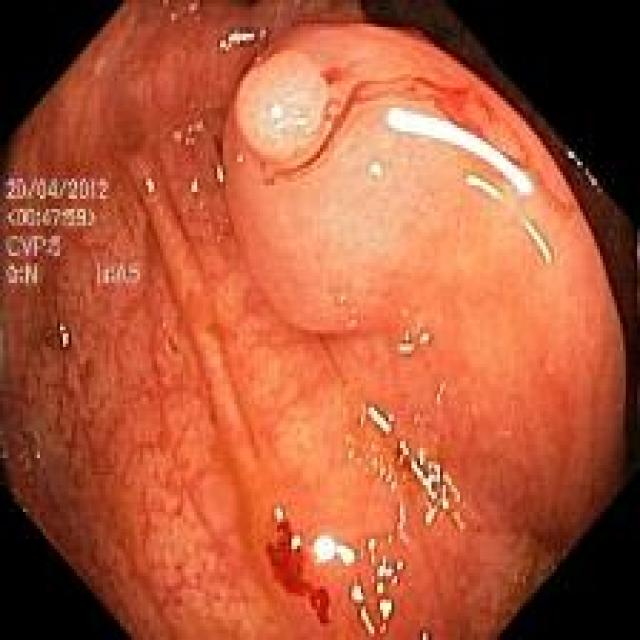Polyps: (225, 25, 625, 550)
